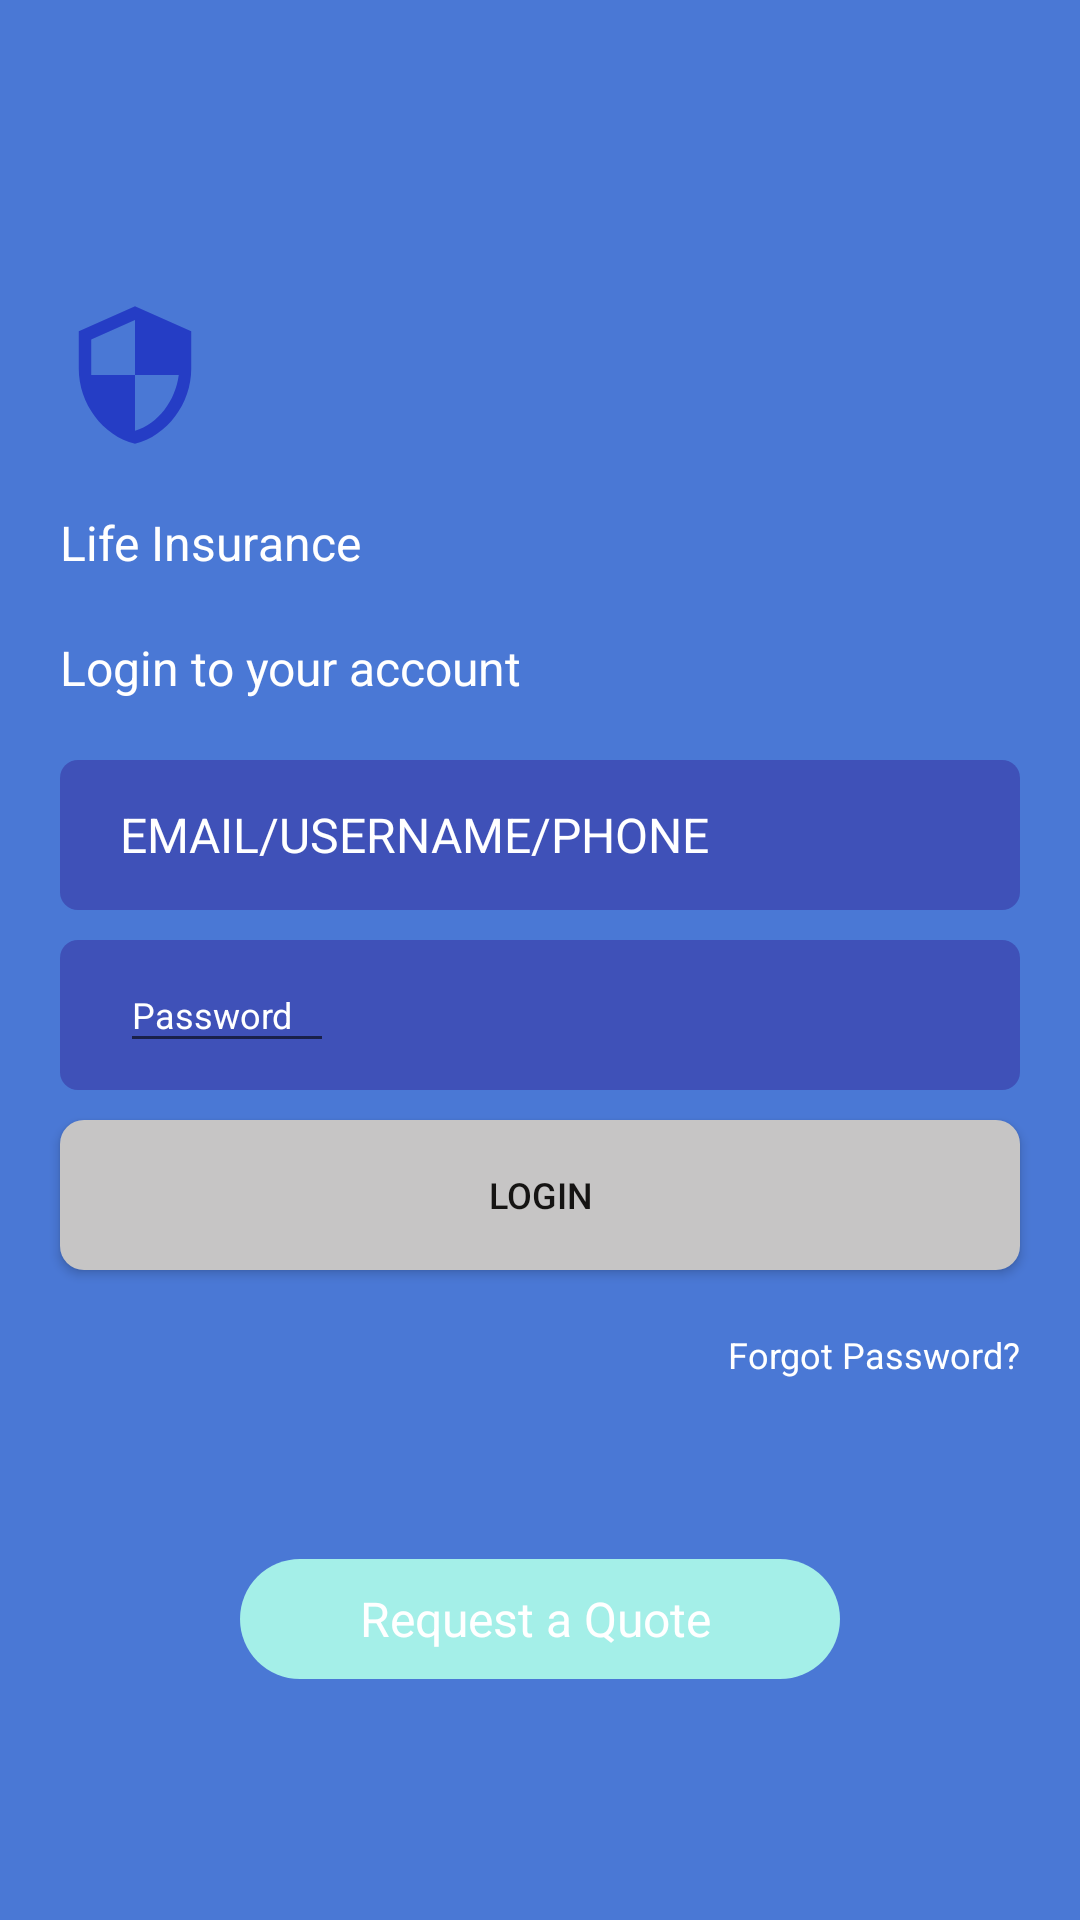

Named icons in this screenshot (1080 x 1920) and their centers, (x,y):
security: (135,375)
